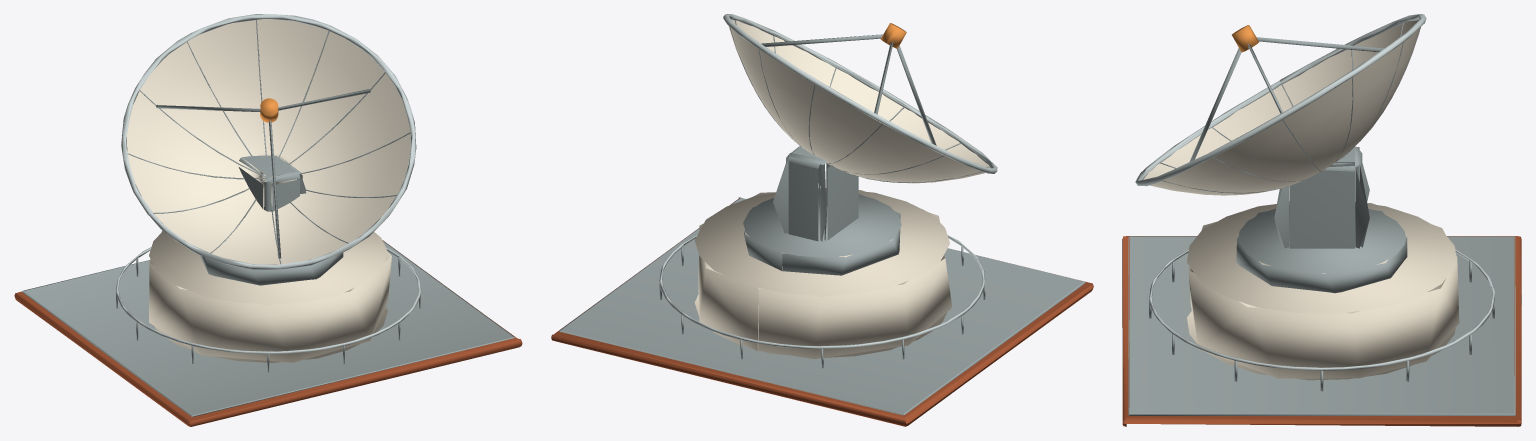
File: communications.glb
The picture shows the model from 3 angles, left to right: view 1: azimuth 30°, elevation 25°; view 2: azimuth 150°, elevation 25°; view 3: azimuth 270°, elevation 25°; orthographic projection. The views are drawn at different scales.
Parts seen in each view (by area): view 1: communications; view 2: communications; view 3: communications.
Boxes of the visible parts, box(x1,y1,x2,y2) form: communications: box(14, 14, 522, 426); communications: box(551, 14, 1093, 426); communications: box(1122, 14, 1521, 426).
Size of the model in its own units: 8 by 6.34 by 7.28.
